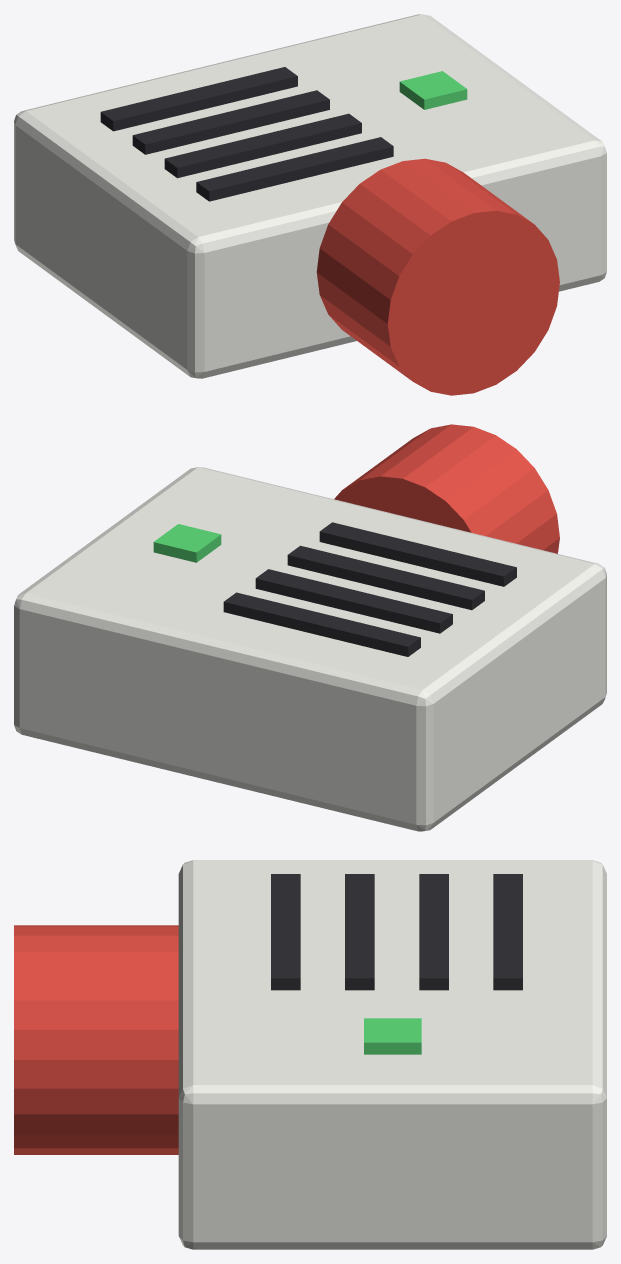
Rendered from alarm.obj.
3 views of the same model, one above another, from view 1: azimuth 30°, elevation 25°; view 2: azimuth 150°, elevation 25°; view 3: azimuth 270°, elevation 25° (orthographic). The views are drawn at different scales.
Size of the model in its own units: 0.34 by 0.14 by 0.36.
